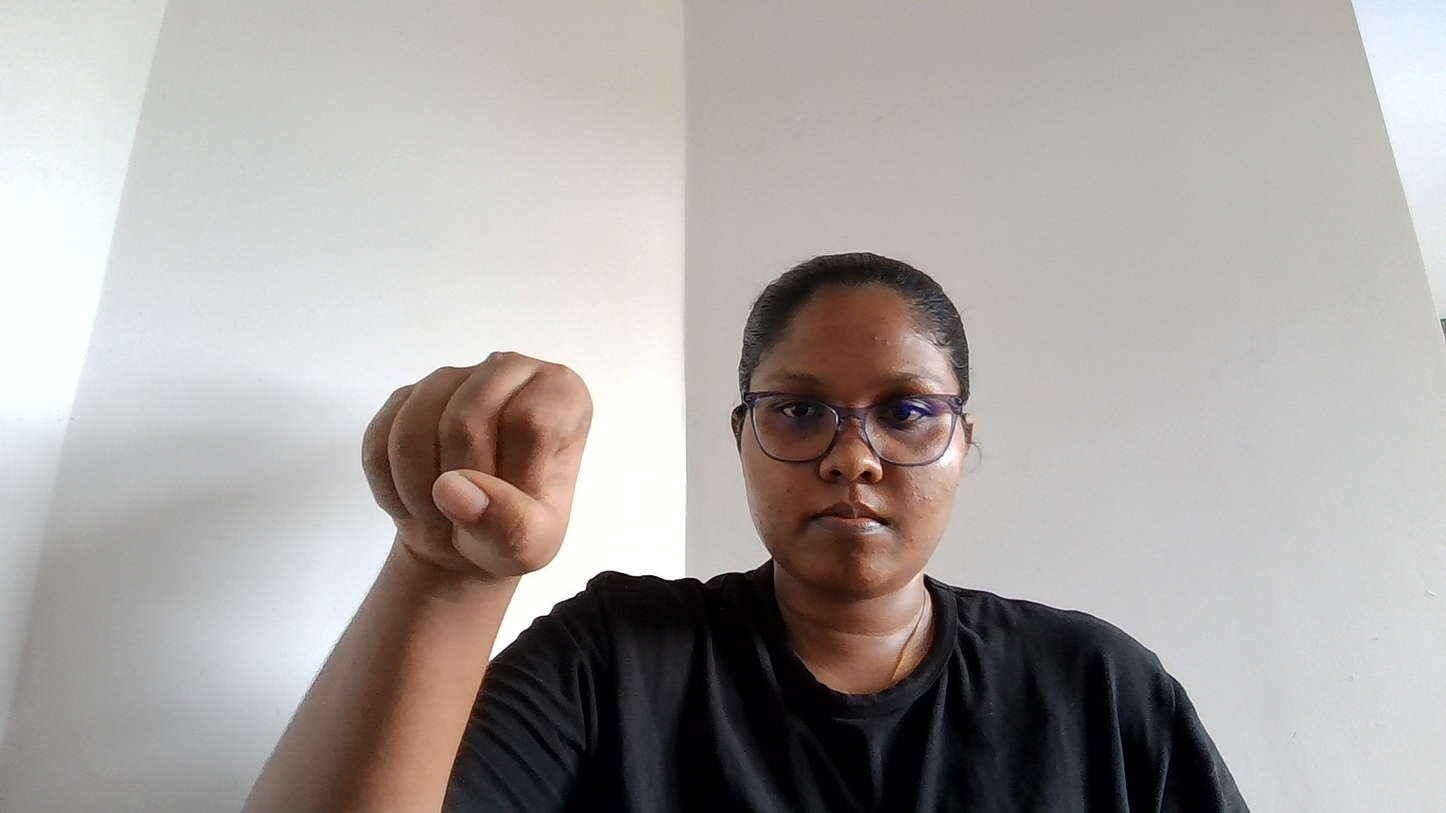Yes: (226, 196, 675, 747)
